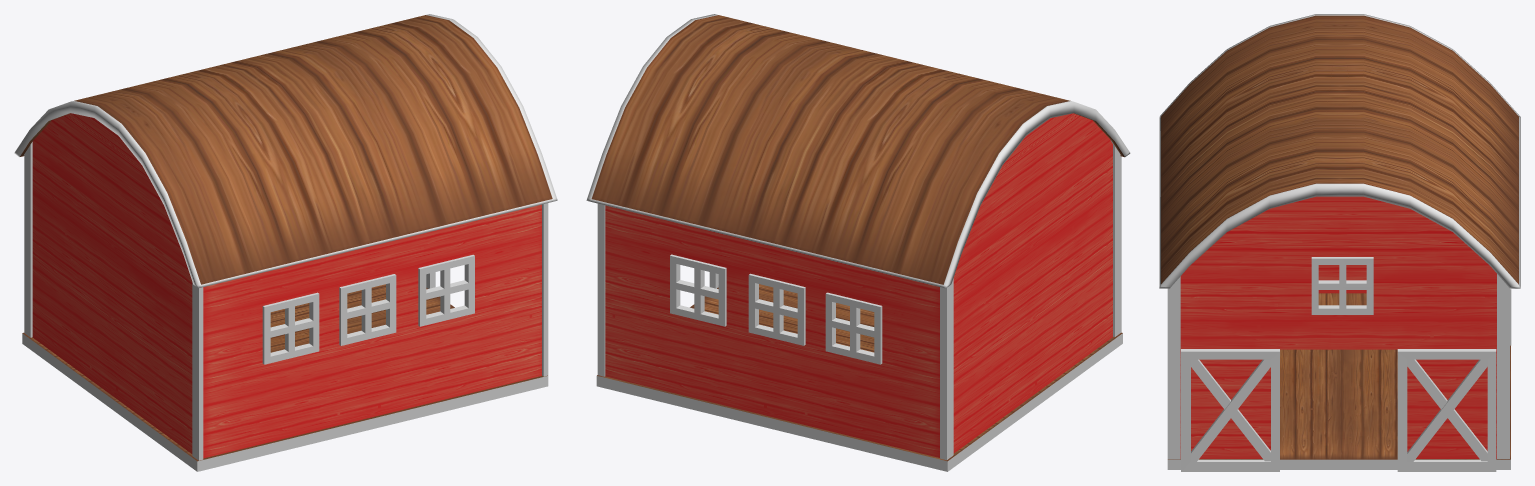
The model's file is Barn windows.fbx.
3 renders of one model, left to right at view 1: azimuth 30°, elevation 25°; view 2: azimuth 150°, elevation 25°; view 3: azimuth 270°, elevation 25°, orthographic. The views are drawn at different scales.
Visible parts, largest first — view 1: Barn windows_White Wood_0; view 2: Barn windows_White Wood_0; view 3: Barn windows_White Wood_0.
Part boxes in pixels (x1,y1,x2,y2): Barn windows_White Wood_0: [14, 14, 557, 471]; Barn windows_White Wood_0: [586, 14, 1130, 471]; Barn windows_White Wood_0: [1159, 14, 1520, 471].
Size of the model in its own units: 1181 by 919 by 1050.
